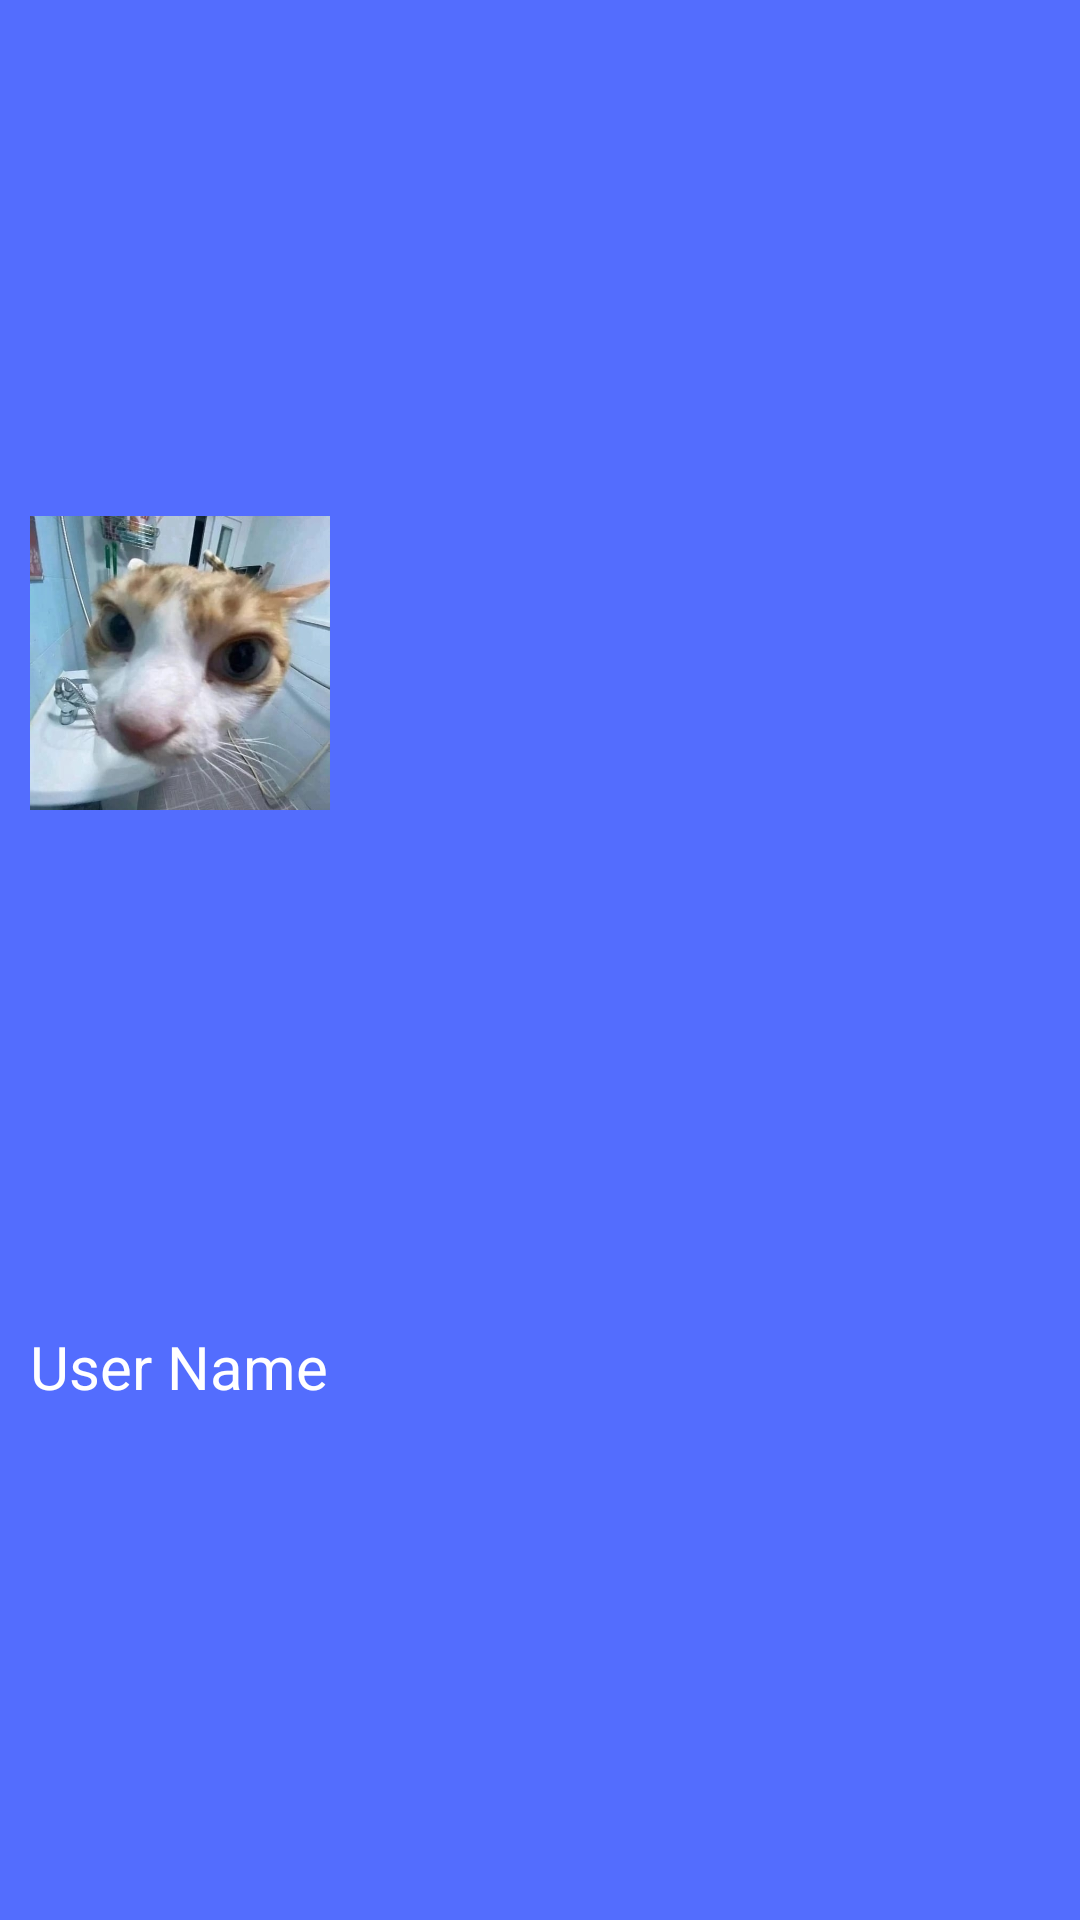

Icons on this 1080 × 1920 Android screen, each with the point to tap as [x,y]:
profile: [180,663]
